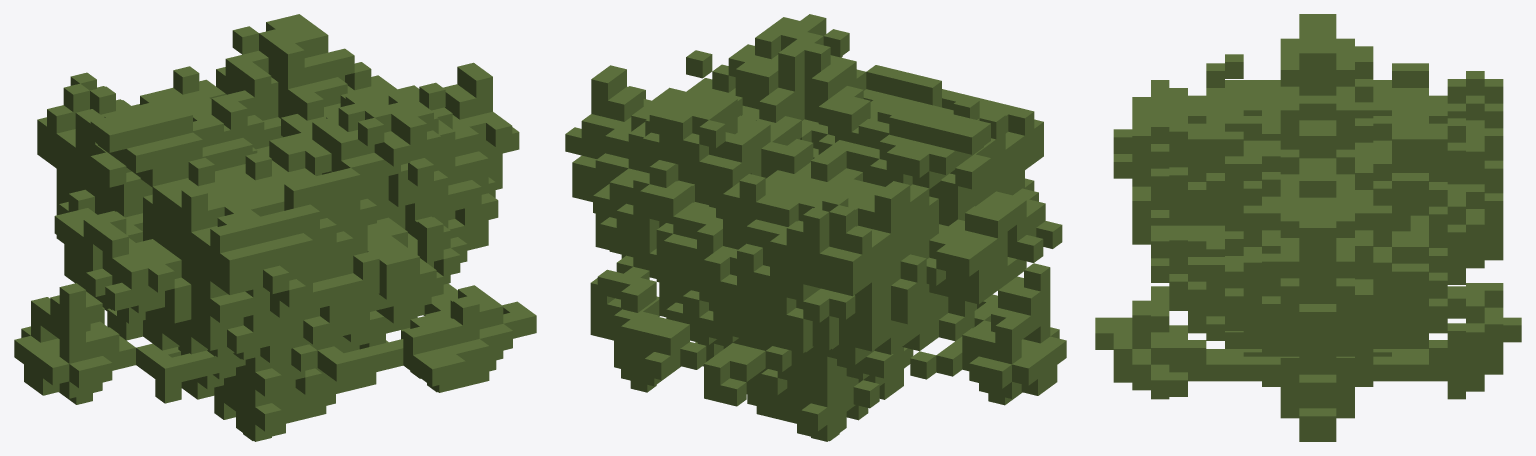
The model's file is good-2.obj.
3 views of the same model, side by side, from view 1: azimuth 30°, elevation 25°; view 2: azimuth 150°, elevation 25°; view 3: azimuth 270°, elevation 25° (orthographic). The views are drawn at different scales.
Bounding box in the file's own units: 2.8 × 1.9 × 2.3.
1 material, 1 textured.
